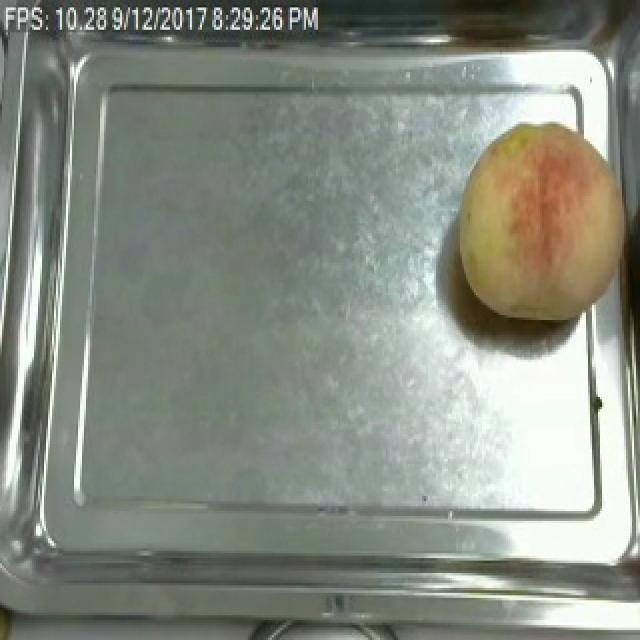Fruit: (450, 114, 636, 328)
